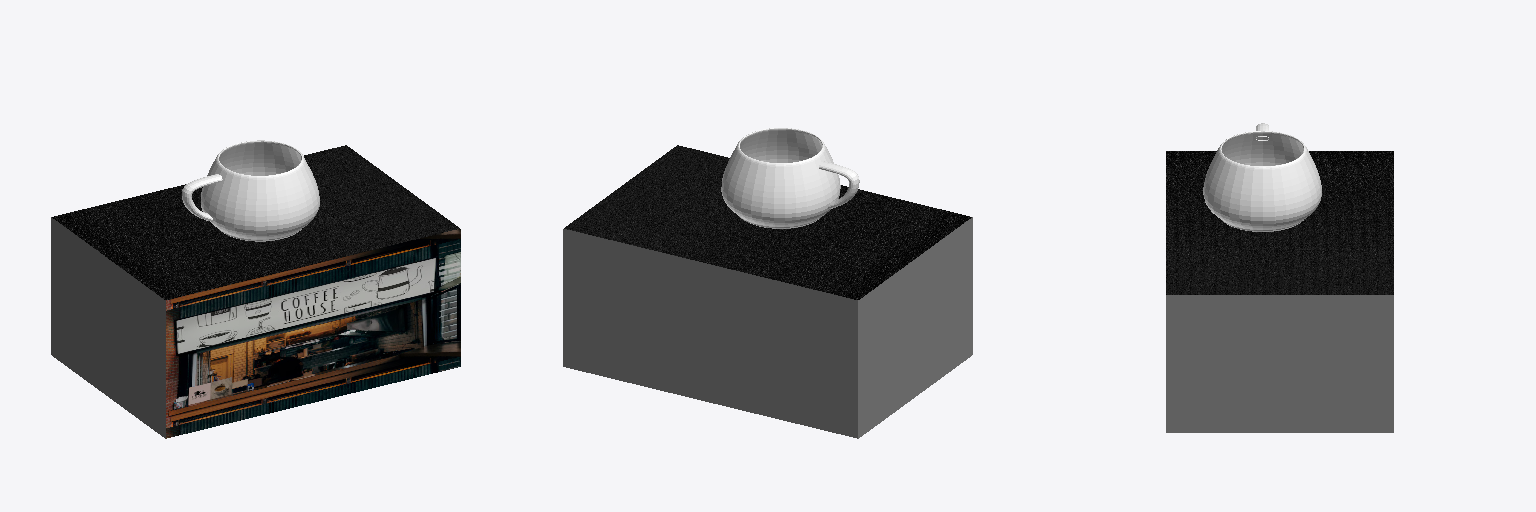
The picture shows the model from 3 angles: view 1: azimuth 30°, elevation 25°; view 2: azimuth 150°, elevation 25°; view 3: azimuth 270°, elevation 25°; orthographic projection.
Visible parts, largest first — view 1: Box001, Teapot001; view 2: Box001, Teapot001; view 3: Box001, Teapot001.
Part boxes in pixels (left/top/right/bottom): Box001: left=51, top=145, right=460, bottom=438; Teapot001: left=182, top=140, right=319, bottom=241; Box001: left=563, top=145, right=972, bottom=438; Teapot001: left=721, top=128, right=859, bottom=228; Box001: left=1166, top=151, right=1393, bottom=432; Teapot001: left=1203, top=123, right=1321, bottom=231.
Size of the model in its own units: 117 by 79.81 by 78.41.
Materials: 5 (3 with a texture image).